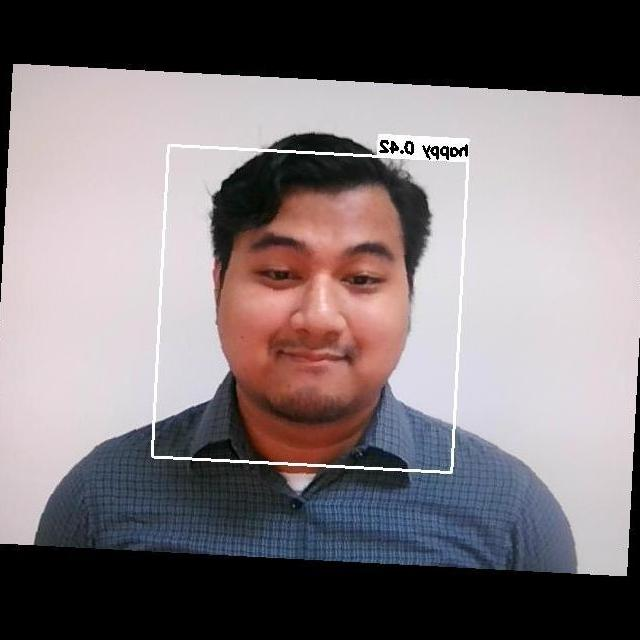Happy: (219, 207, 416, 407)
